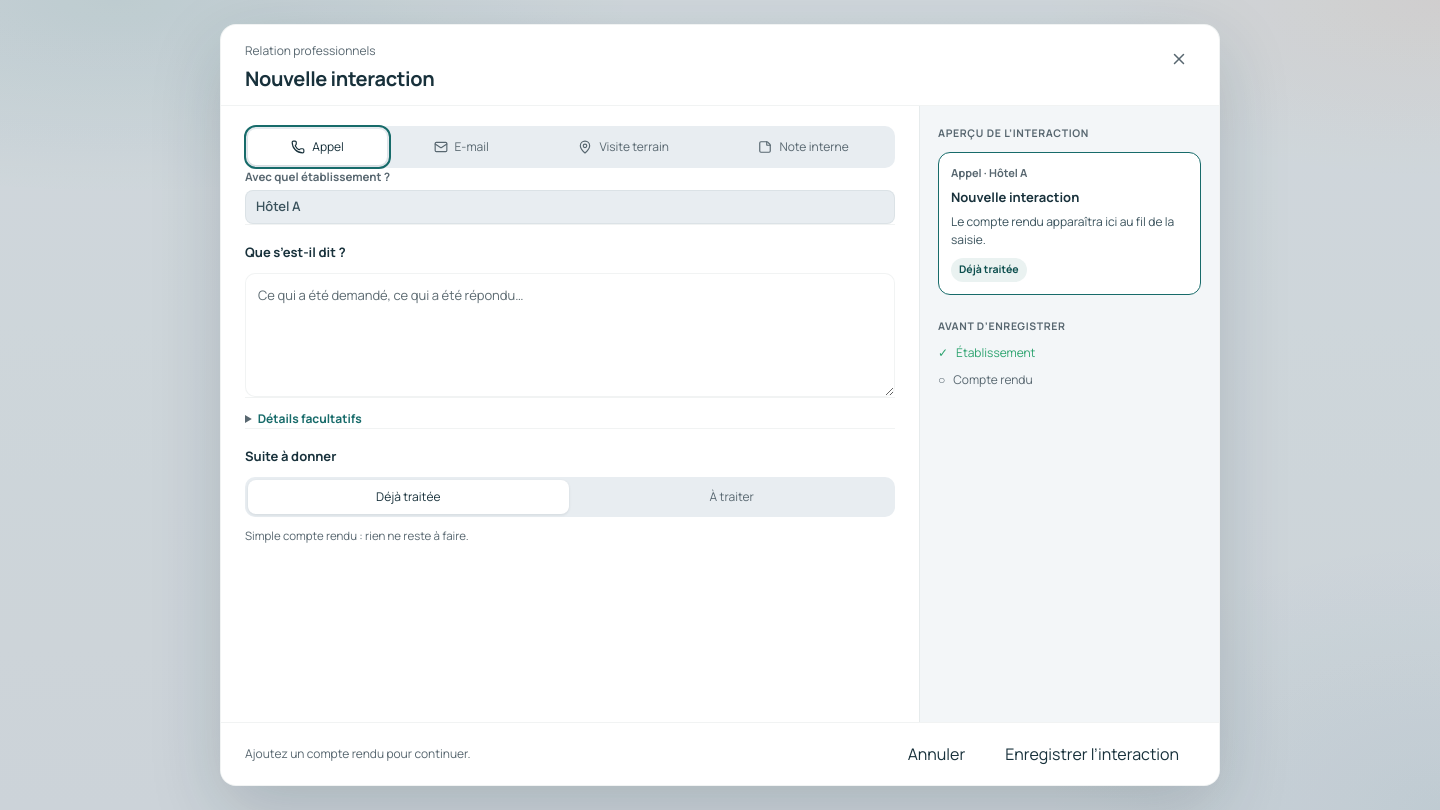
Test: CrmInteractionModal — établissement requis (§66 décision 1) › les détails optionnels sont repliés, puis le ressenti met à jour l’aperçu
Click the heading "Détails facultatifs": click(303, 419) [245, 410, 362, 428]
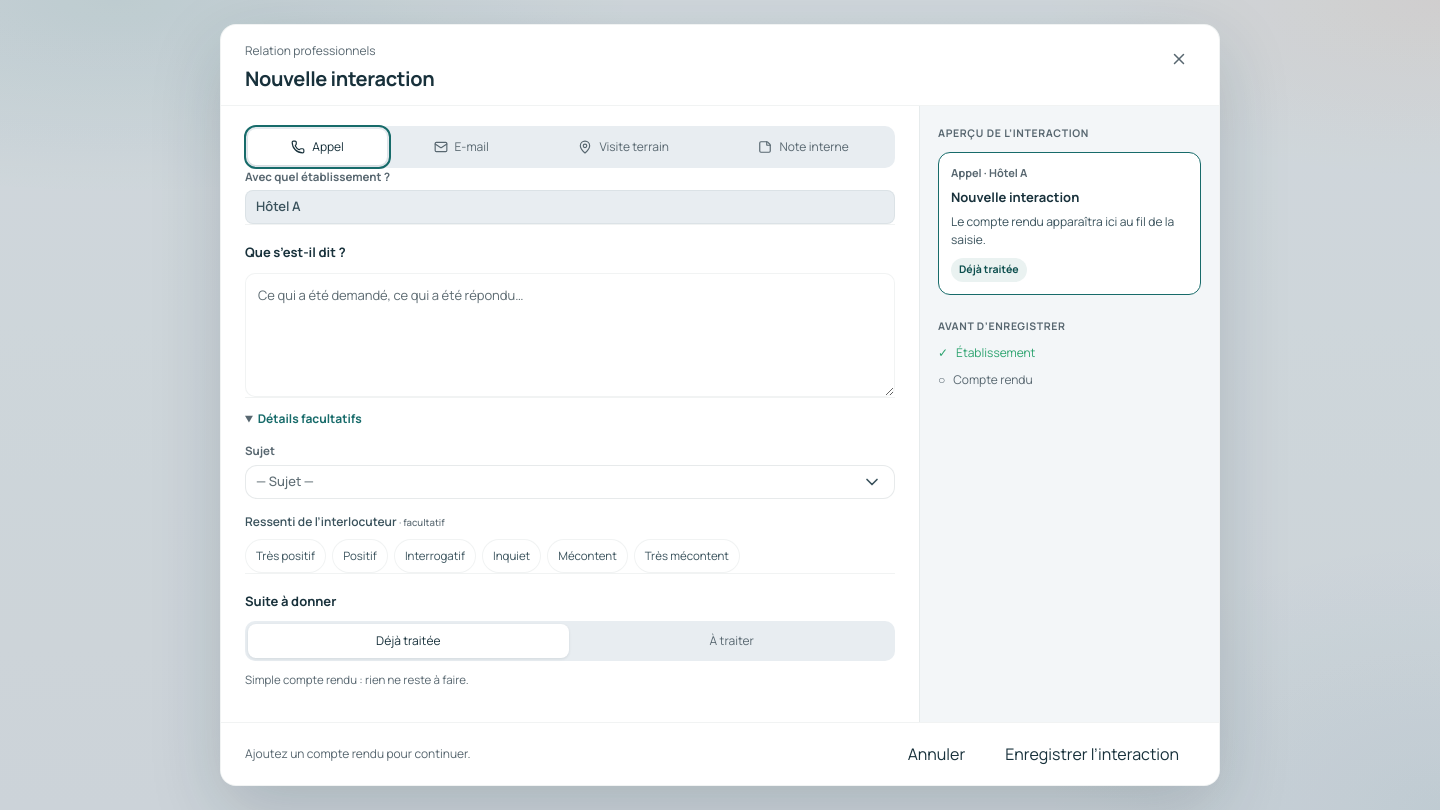
Click the button "Positif": click(360, 556) [332, 538, 388, 572]
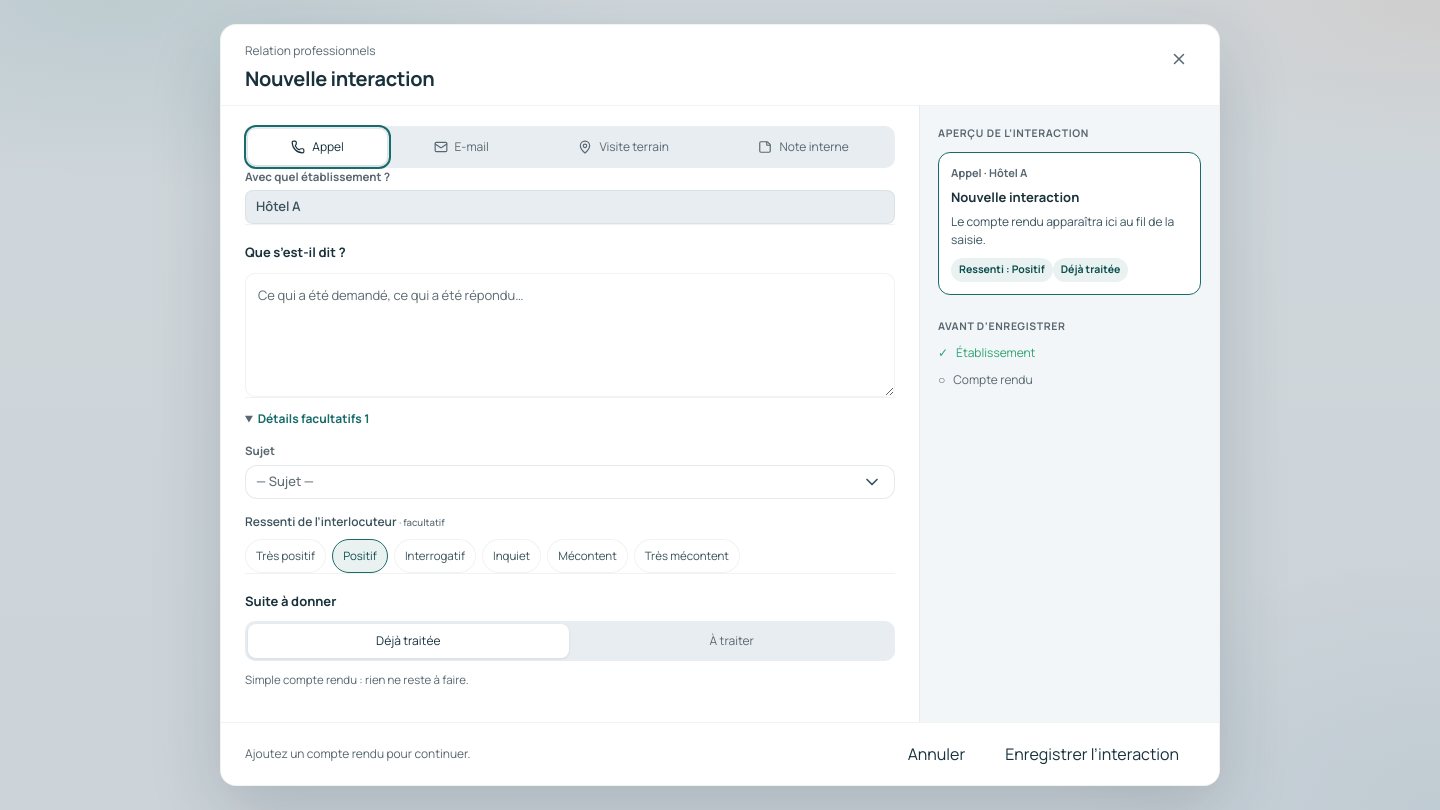
Now the text "Ressenti : Positif" is shown, box [951, 258, 1053, 282]
